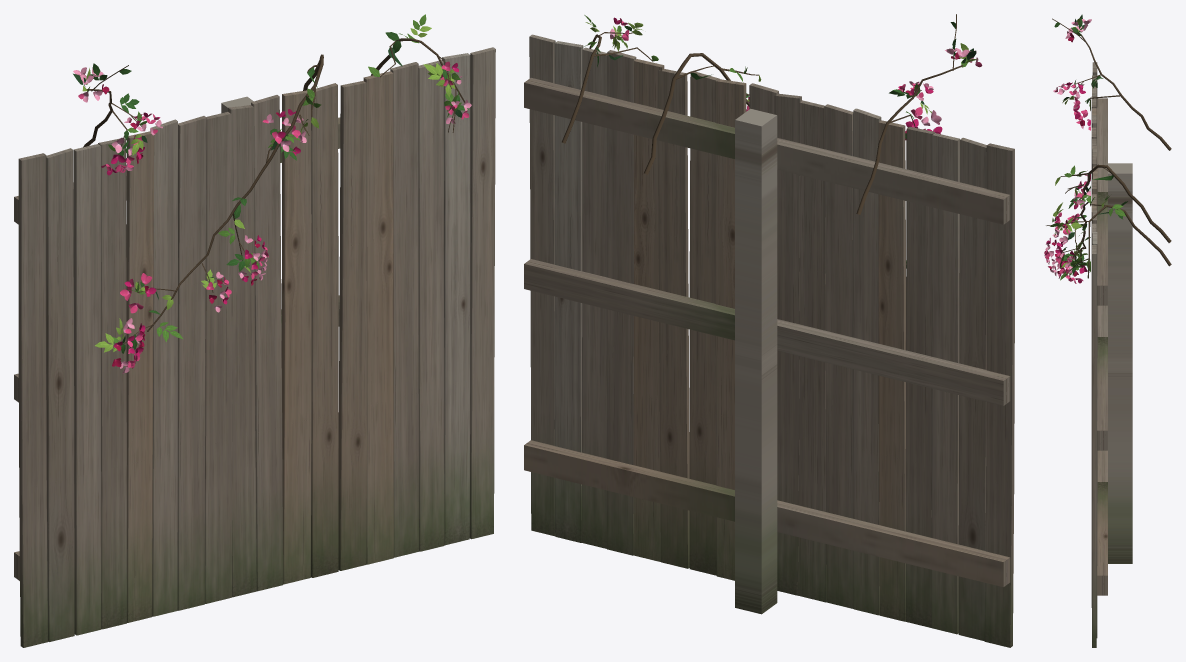
File: BGV_fence_extension.glb
3 renders of one model, left to right at view 1: azimuth 30°, elevation 25°; view 2: azimuth 150°, elevation 25°; view 3: azimuth 270°, elevation 25°, orthographic. The views are drawn at different scales.
Parts seen in each view (by area): view 1: BGV_ext_fence_boards, BGV_ext_bougainvillea_leaves, BGV_ext_bougainvillea_flowers, BGV_ext_bougainvillea_primary_stems, BGV_ext_fence_structure, BGV_ext_bougainvillea_secondary_stems; view 2: BGV_ext_fence_boards, BGV_ext_fence_structure, BGV_ext_bougainvillea_primary_stems, BGV_ext_bougainvillea_leaves, BGV_ext_bougainvillea_flowers; view 3: BGV_ext_fence_structure, BGV_ext_fence_boards, BGV_ext_bougainvillea_flowers, BGV_ext_bougainvillea_leaves, BGV_ext_bougainvillea_primary_stems, BGV_ext_bougainvillea_secondary_stems.
Boxes of the visible parts, x1,y1,x2,y2 form: BGV_ext_fence_boards: [18, 47, 495, 647]; BGV_ext_bougainvillea_leaves: [73, 14, 468, 353]; BGV_ext_bougainvillea_flowers: [73, 61, 471, 373]; BGV_ext_bougainvillea_primary_stems: [83, 38, 464, 331]; BGV_ext_fence_structure: [14, 96, 340, 580]; BGV_ext_bougainvillea_secondary_stems: [91, 41, 456, 344]; BGV_ext_fence_boards: [529, 34, 1014, 647]; BGV_ext_fence_structure: [524, 77, 1010, 614]; BGV_ext_bougainvillea_primary_stems: [562, 34, 963, 214]; BGV_ext_bougainvillea_leaves: [579, 15, 977, 268]; BGV_ext_bougainvillea_flowers: [610, 17, 982, 140]; BGV_ext_fence_structure: [1097, 98, 1132, 595]; BGV_ext_fence_boards: [1091, 62, 1097, 647]; BGV_ext_bougainvillea_flowers: [1044, 19, 1091, 283]; BGV_ext_bougainvillea_leaves: [1050, 14, 1127, 280]; BGV_ext_bougainvillea_primary_stems: [1079, 34, 1171, 278]; BGV_ext_bougainvillea_secondary_stems: [1046, 18, 1119, 276].
Size of the model in its own units: 1.81 by 2.15 by 0.5217.
Materials: 4 (3 with a texture image).
